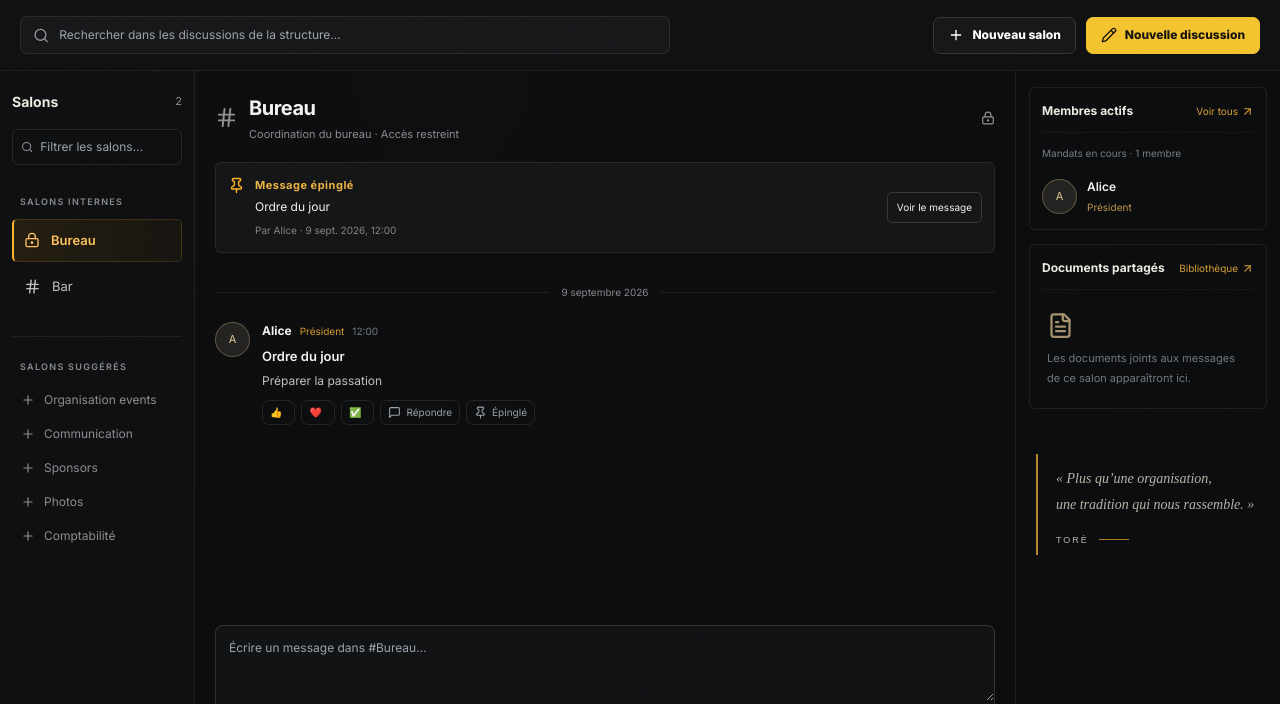
Test: Discussions workspace › opens Bureau, keeps channel drafts and sends a structure-scoped message
Later steps or results of the test are not shown.
Check: the heading "Bureau" is shown, box [249,96,316,120]
Step 1. Type "Mon brouillon" into the text box named "Message dans Bureau" → (605, 663), box [216,626,994,700]
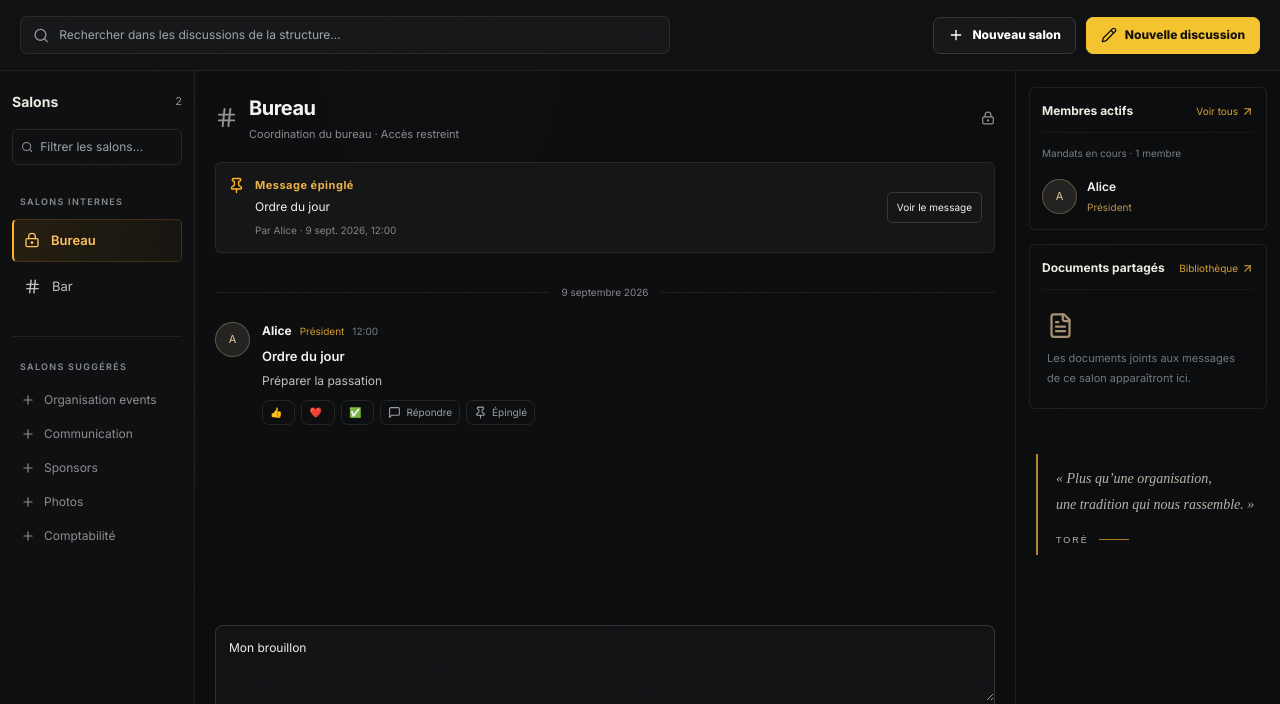
Step 2. Click the button "Bar" → click(97, 287), box [12,265,182,308]
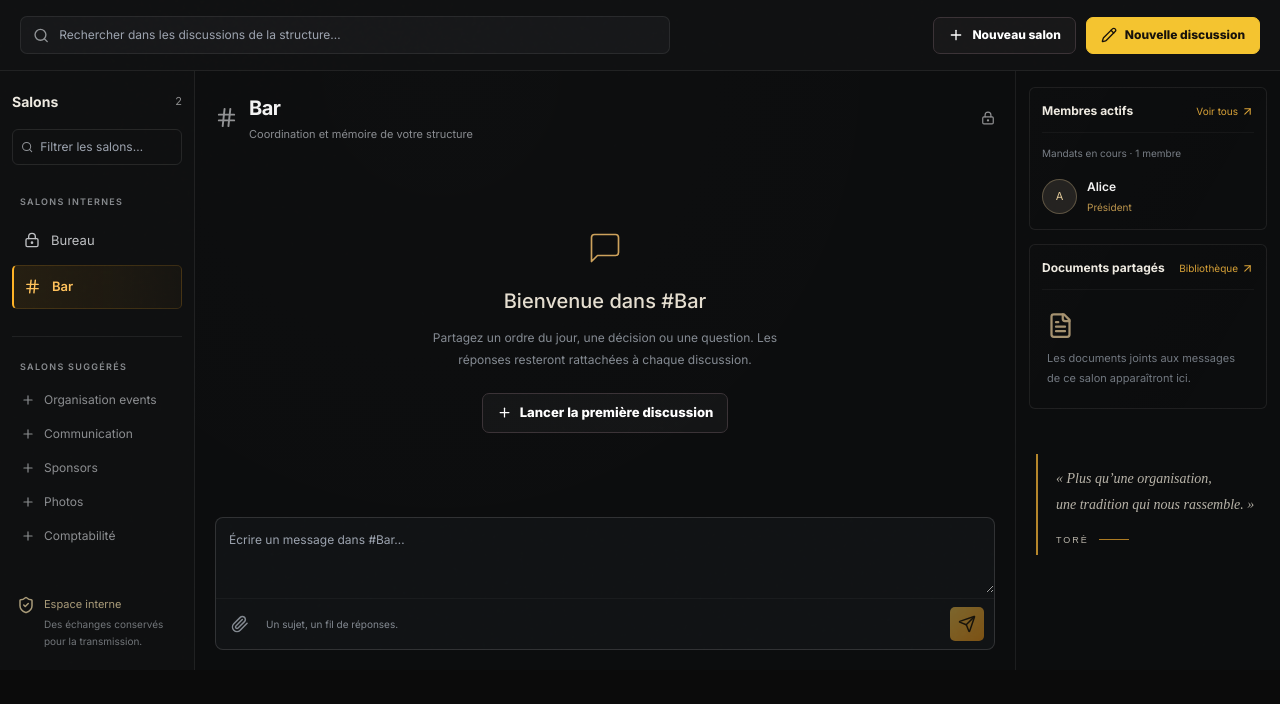
Check: the text box named "Message dans Bar" is empty, box [216,518,994,592]
